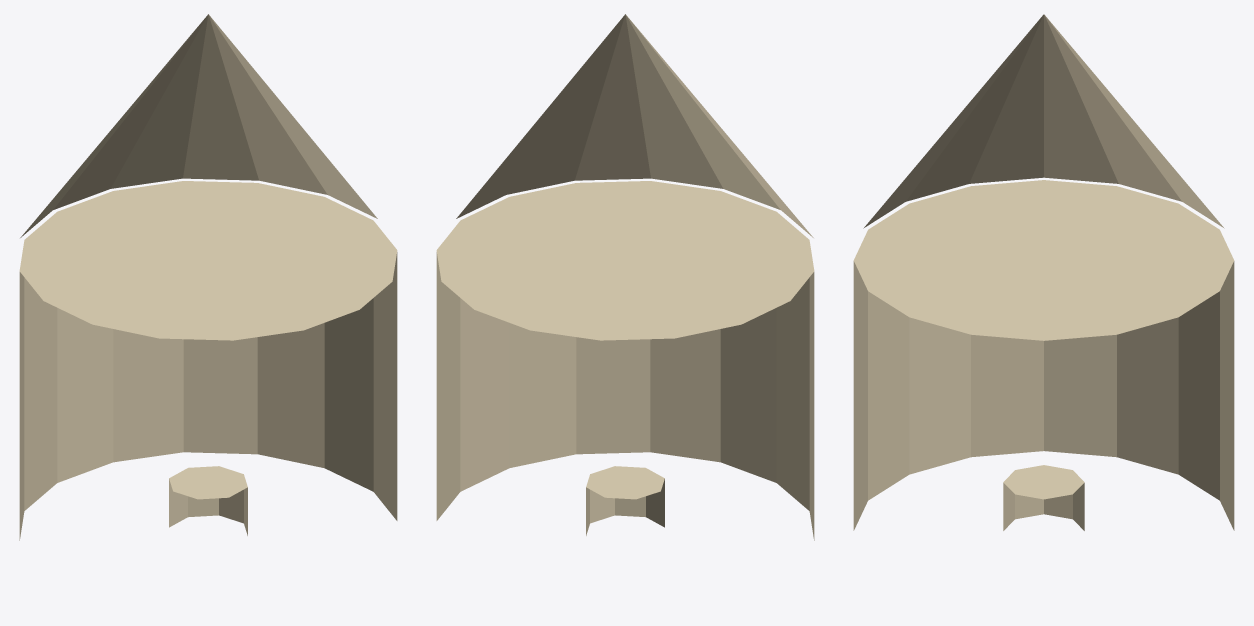
The model's file is papua-honai.glb.
3 views of the same model, side by side, from view 1: azimuth 30°, elevation 25°; view 2: azimuth 150°, elevation 25°; view 3: azimuth 270°, elevation 25° (orthographic).
Visible parts, largest first — view 1: papua-honai.glb; view 2: papua-honai.glb; view 3: papua-honai.glb.
Part boxes in pixels (x1,y1,x2,y2): papua-honai.glb: (19,14,397,540); papua-honai.glb: (436,14,814,540); papua-honai.glb: (853,14,1234,530).
Size of the model in its own units: 1.44 by 2.1 by 1.44.
